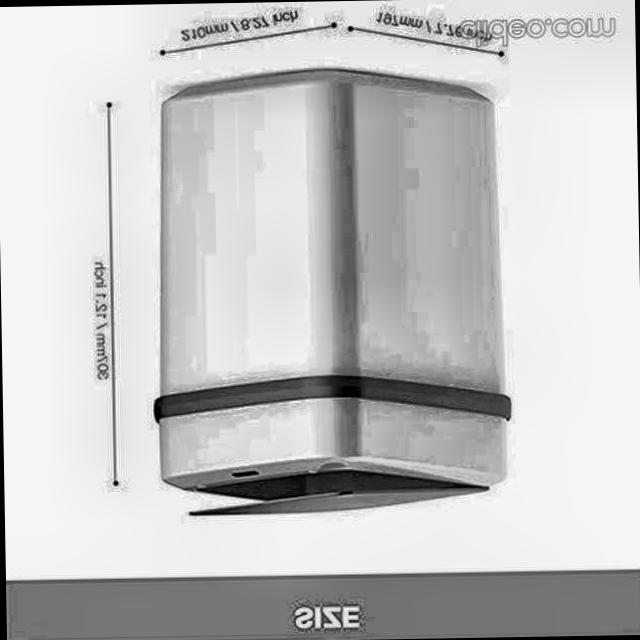Dustbin: (126, 35, 548, 554)
